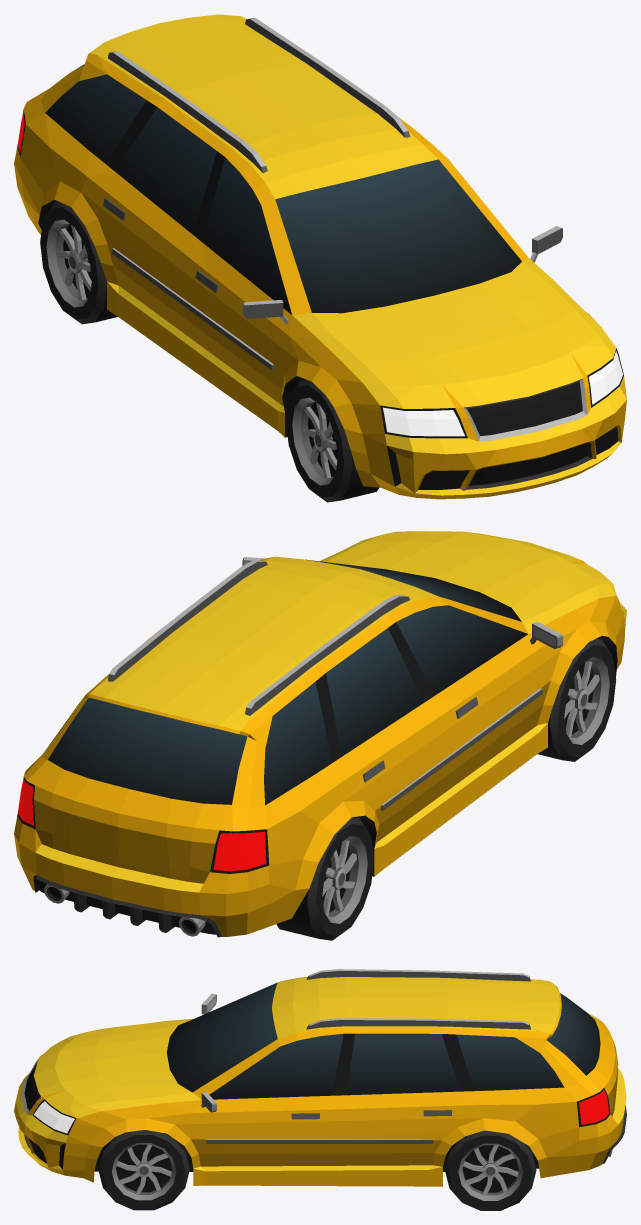
The model's file is car_rs6.glb.
3 renders of one model, top to bottom at view 1: azimuth 30°, elevation 25°; view 2: azimuth 150°, elevation 25°; view 3: azimuth 270°, elevation 25°, orthographic. The views are drawn at different scales.
Parts seen in each view (by area): view 1: Chassis_Body, Wheel_FR, Wheel_RR; view 2: Chassis_Body, Wheel_RR, Wheel_FR; view 3: Chassis_Body, Wheel_FL, Wheel_RL.
Boxes of the visible parts, <box> form: Chassis_Body: <box>14,14,626,499</box>; Wheel_FR: <box>286,379,378,502</box>; Wheel_RR: <box>40,201,117,324</box>; Chassis_Body: <box>14,531,626,937</box>; Wheel_RR: <box>276,817,374,940</box>; Wheel_FR: <box>537,638,616,761</box>; Chassis_Body: <box>14,969,626,1186</box>; Wheel_FL: <box>98,1130,189,1210</box>; Wheel_RL: <box>445,1130,536,1210</box>.
Bounding box in the file's own units: 1.96 × 1.41 × 4.58.
Materials: 2 (2 with a texture image).
